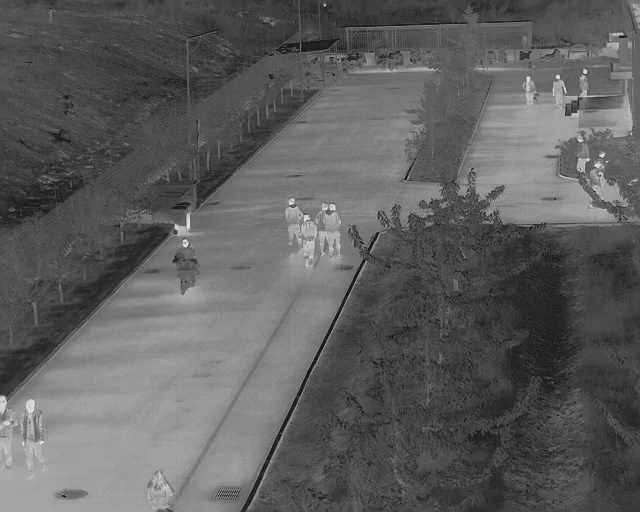NonMotorVehicle: (173, 237, 200, 297)
person: (18, 398, 49, 480), (145, 469, 175, 512), (322, 203, 344, 260), (283, 197, 303, 258), (300, 213, 318, 270), (551, 73, 568, 110), (522, 74, 539, 110), (576, 135, 590, 174), (578, 67, 590, 97)
